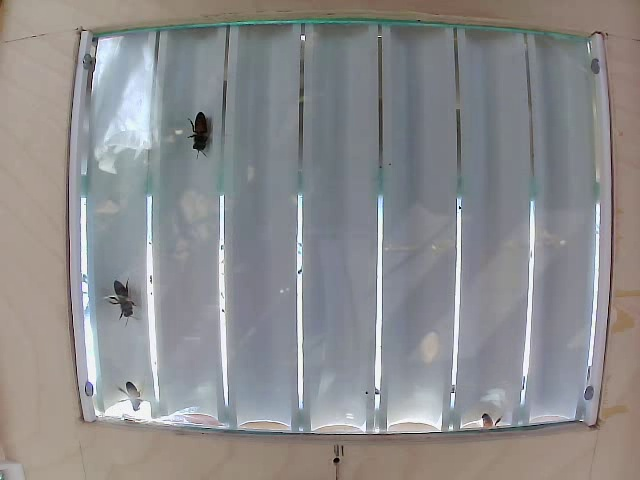bee: (107, 264, 145, 322), (193, 105, 228, 166)
